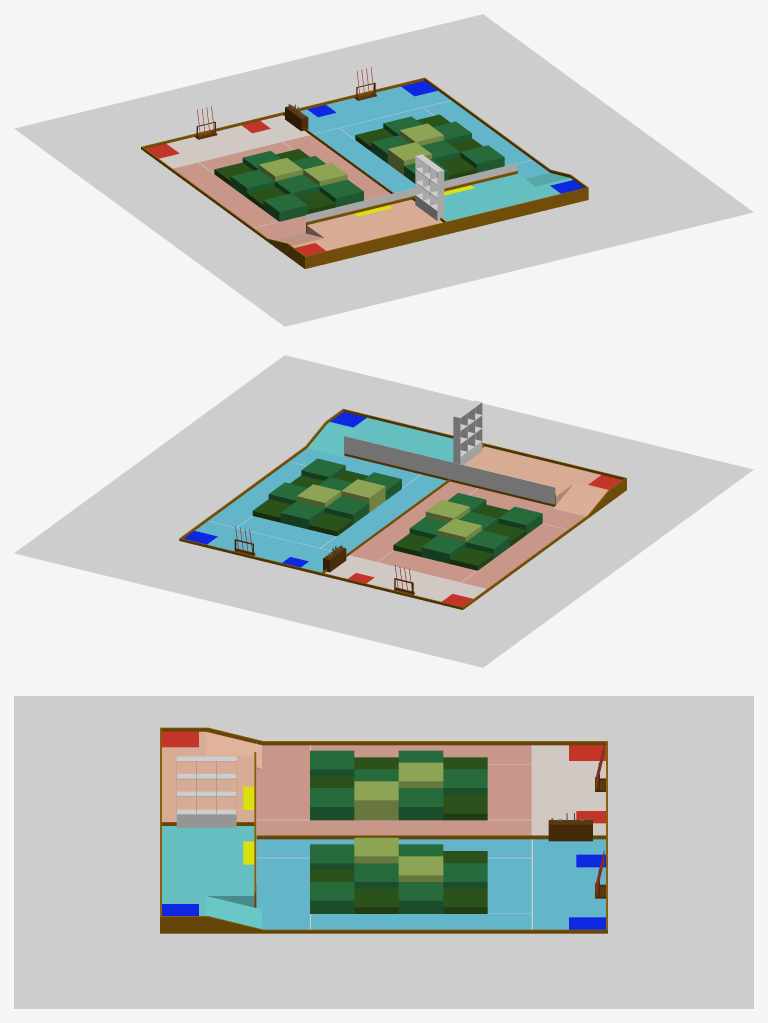
Rendered from robocon2026_map_new.dae.
The picture shows the model from 3 angles, top to bottom: view 1: azimuth 30°, elevation 25°; view 2: azimuth 150°, elevation 25°; view 3: azimuth 270°, elevation 25°; orthographic projection. The views are drawn at different scales.
Visible parts, largest first — view 1: 平面.005, 主地图, 平面.006, 区域三放置架, 主地图.002, 2-3区围栏; view 2: 平面.005, 主地图, 平面.006, 主地图.002, 区域三放置架, 2-3区围栏; view 3: 平面.005, 主地图, 平面.006, 区域三放置架, 立方体, 2-3区围栏.
Part boxes in pixels (bbox=[...]): 平面.005: bbox=[14, 14, 753, 326]; 主地图: bbox=[146, 81, 583, 255]; 平面.006: bbox=[141, 77, 588, 268]; 区域三放置架: bbox=[415, 154, 444, 220]; 主地图.002: bbox=[306, 163, 517, 222]; 2-3区围栏: bbox=[306, 171, 517, 233]; 平面.005: bbox=[14, 355, 753, 667]; 主地图: bbox=[184, 412, 621, 606]; 平面.006: bbox=[179, 408, 626, 609]; 主地图.002: bbox=[344, 436, 555, 504]; 区域三放置架: bbox=[453, 400, 482, 464]; 2-3区围栏: bbox=[344, 443, 555, 506]; 平面.005: bbox=[14, 696, 753, 1008]; 主地图: bbox=[162, 731, 605, 929]; 平面.006: bbox=[160, 727, 607, 933]; 区域三放置架: bbox=[176, 756, 236, 827]; 立方体: bbox=[548, 820, 592, 841]; 2-3区围栏: bbox=[162, 752, 256, 907].
Bounding box in the file's own units: 20 × 20 × 2.42.
